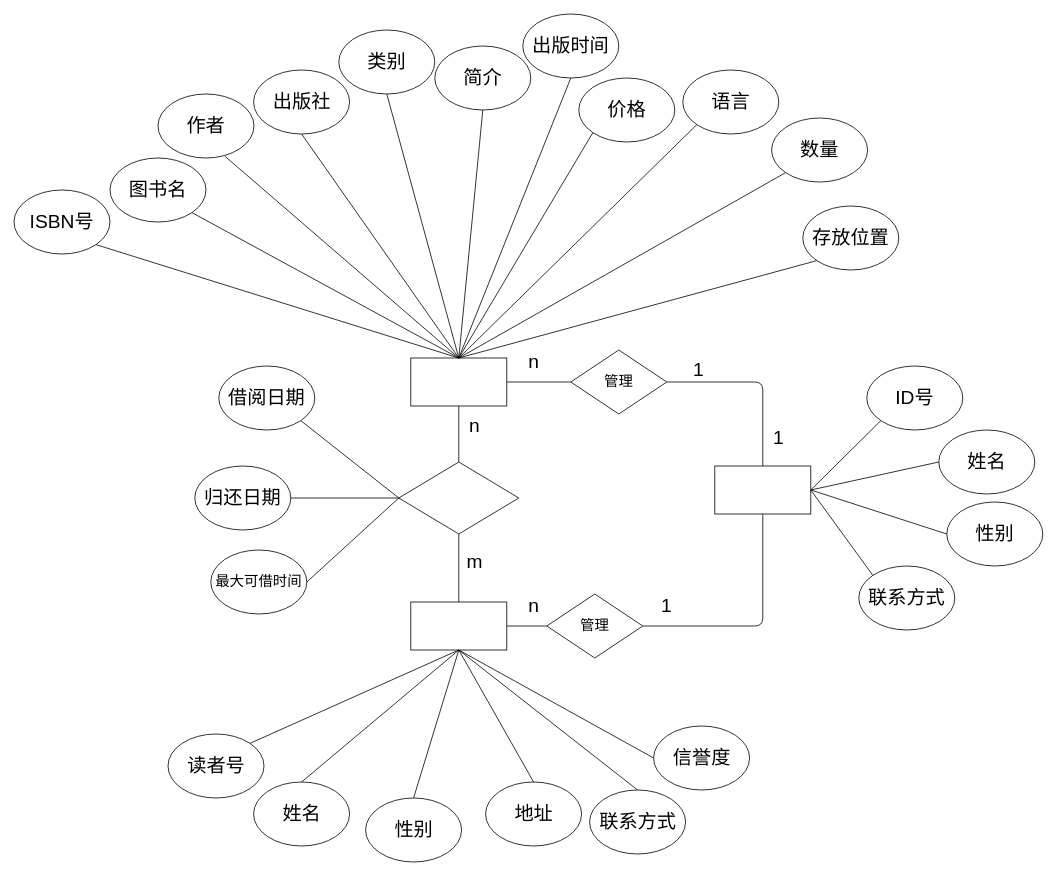
Image size: 1057x876. Some labels were removed from this diagram. Here are the shapes that lost their labels. From the top down, the centre of each, then its label:
At point (458, 381): "图书".
At point (458, 497): "借阅".
At point (762, 489): "管理员".
At point (458, 625): "读者".
